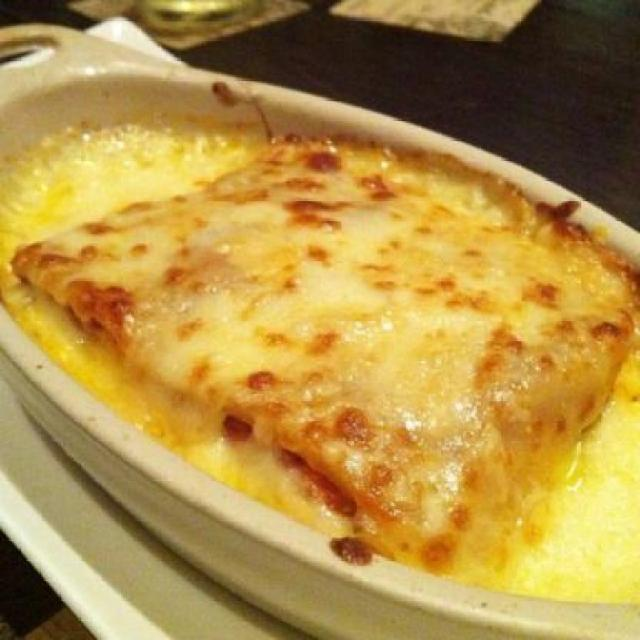Lasagna: (39, 140, 616, 563)
